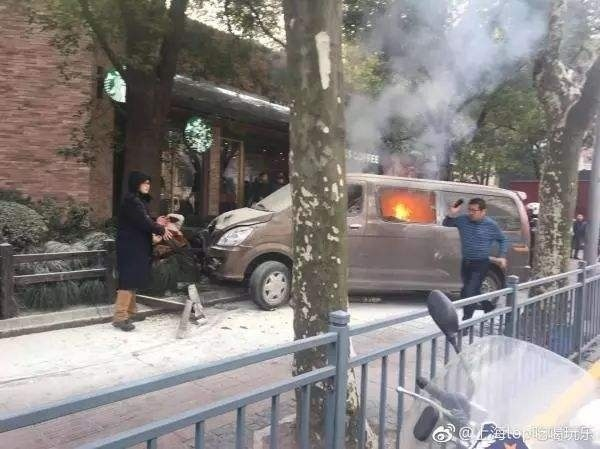fire: (386, 194, 414, 221)
